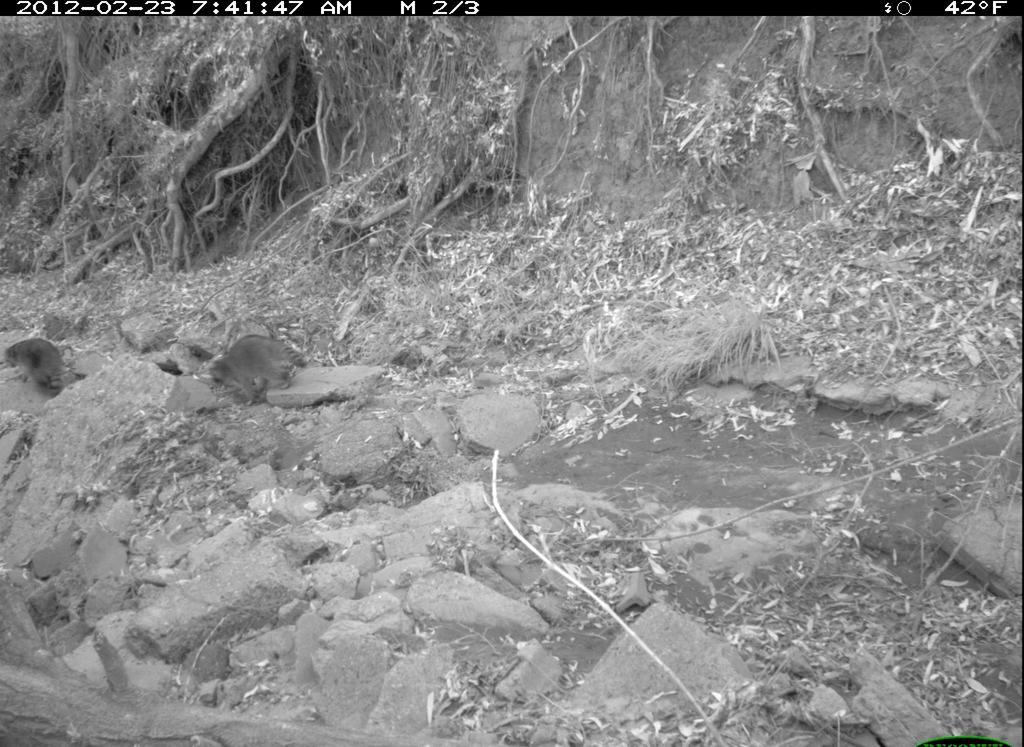raccoon: (199, 326, 315, 413), (3, 333, 80, 397)
